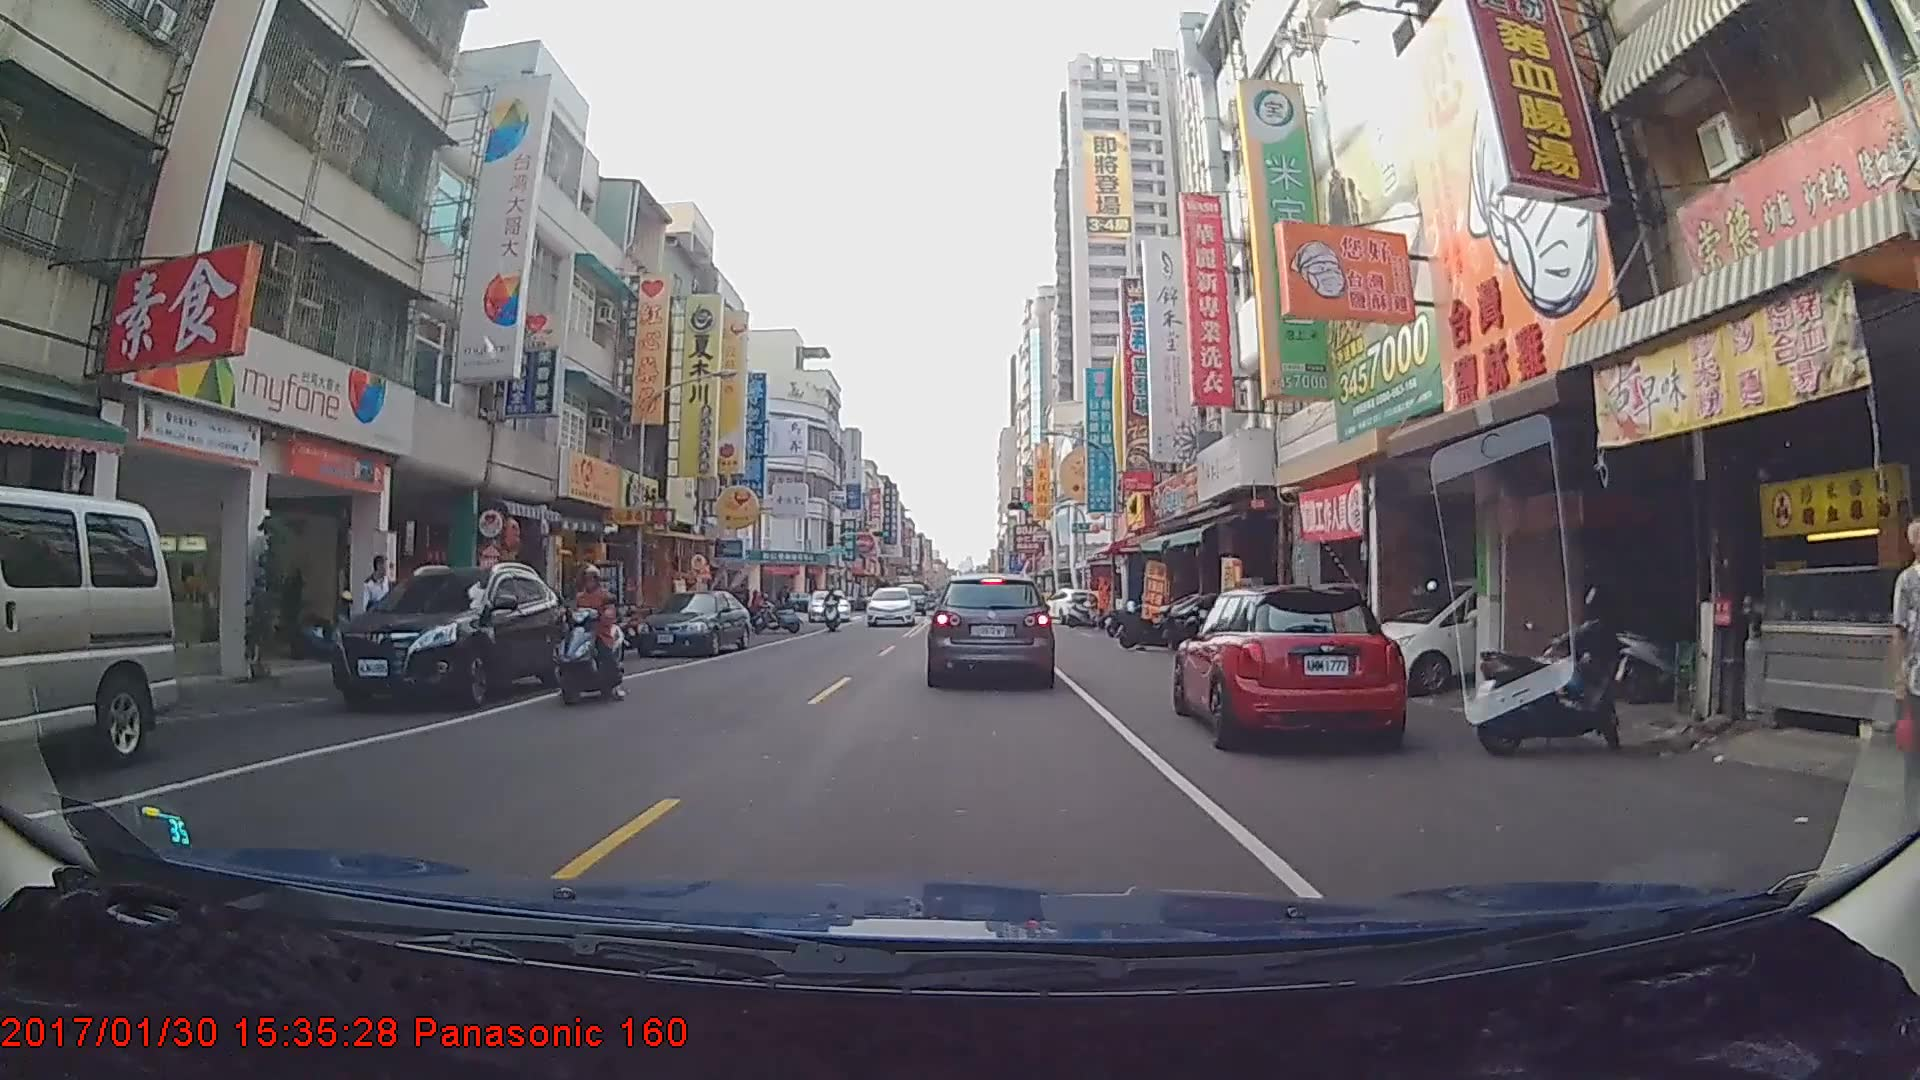pedestrian: (1888, 520, 1920, 832)
rider: (556, 561, 629, 705), (821, 581, 848, 630)
vehicle: (0, 483, 181, 773), (1174, 580, 1403, 747), (329, 561, 570, 711), (929, 571, 1053, 686), (629, 586, 749, 654), (864, 583, 916, 625), (1038, 581, 1095, 619), (807, 586, 849, 617)
